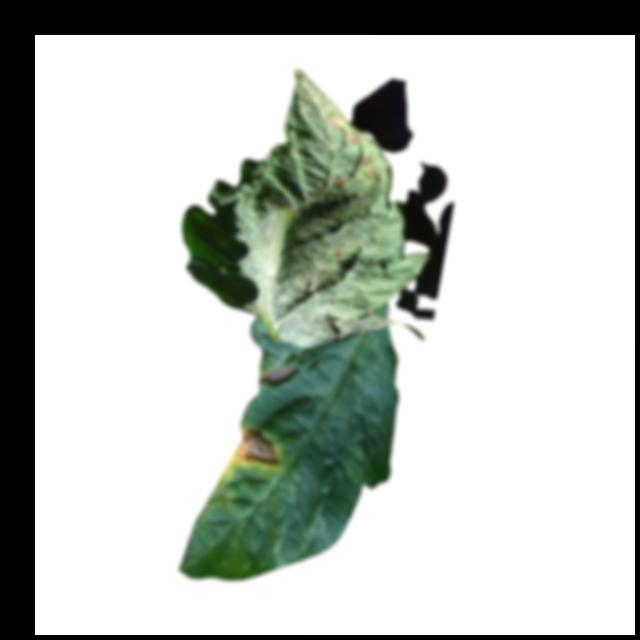Early_blight: (229, 427, 280, 465), (361, 152, 374, 168), (330, 175, 348, 186), (348, 132, 363, 145), (367, 166, 381, 177)
